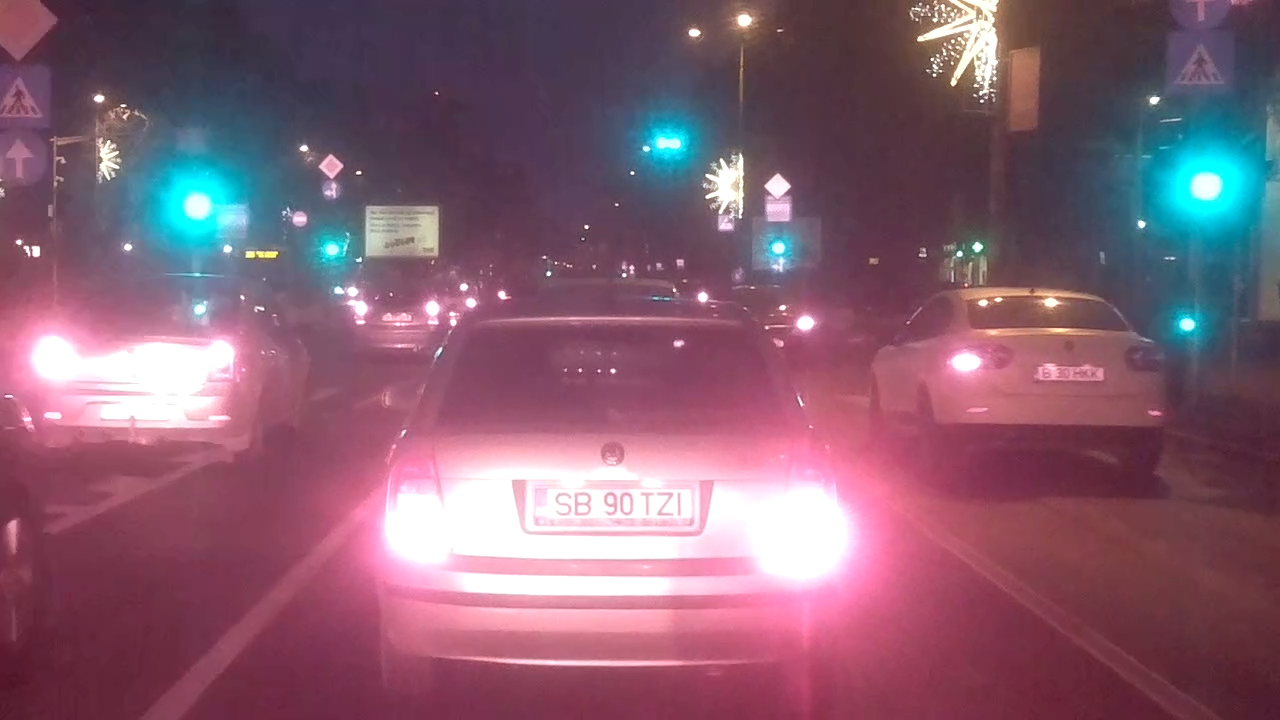license-plate: (528, 484, 698, 524)
